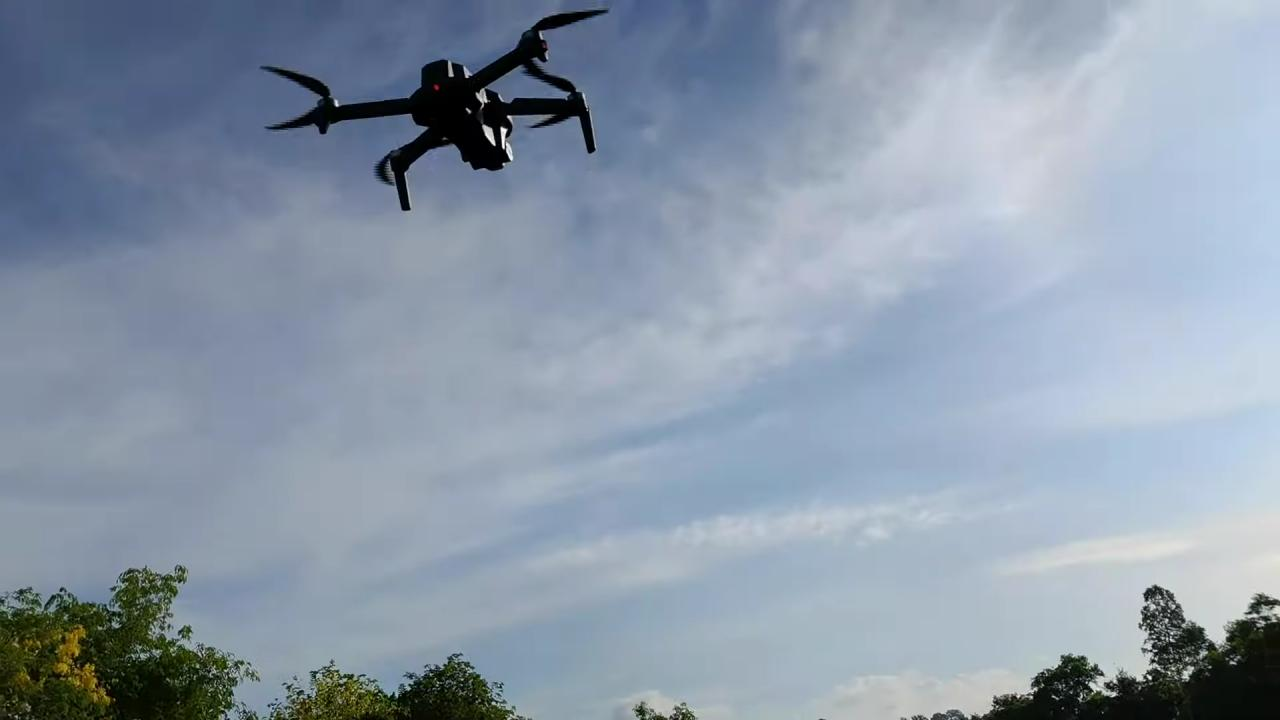Drone: (240, 0, 632, 227)
